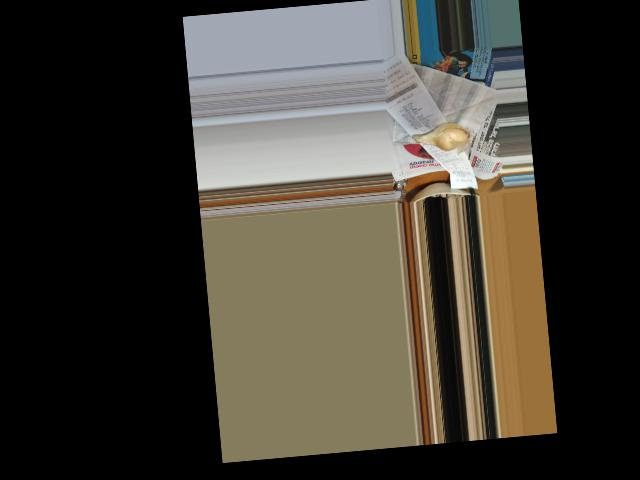onion: (415, 120, 470, 155)
